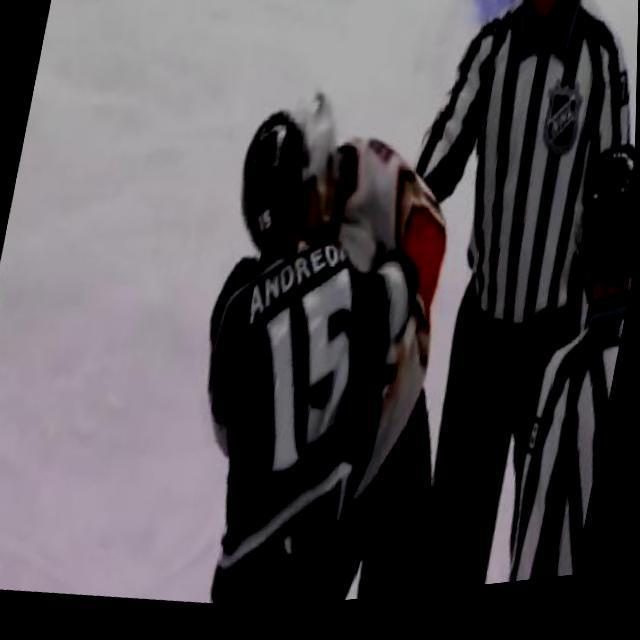fight: (125, 38, 526, 628)
